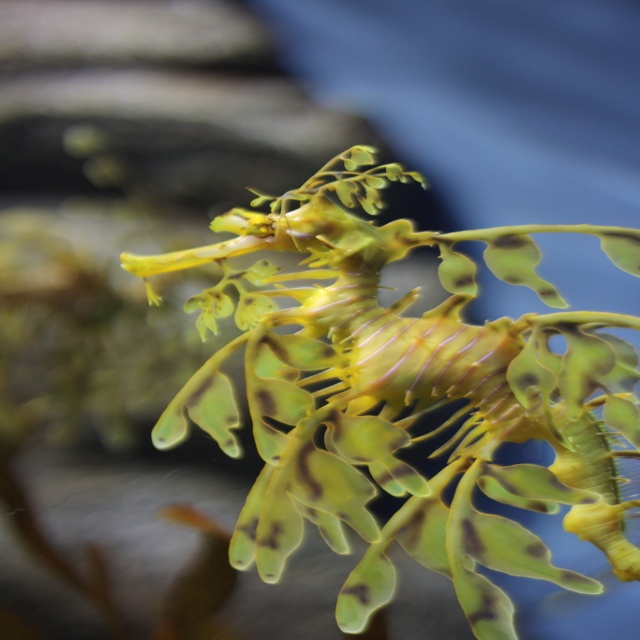Seahorse: (118, 145, 640, 639)
